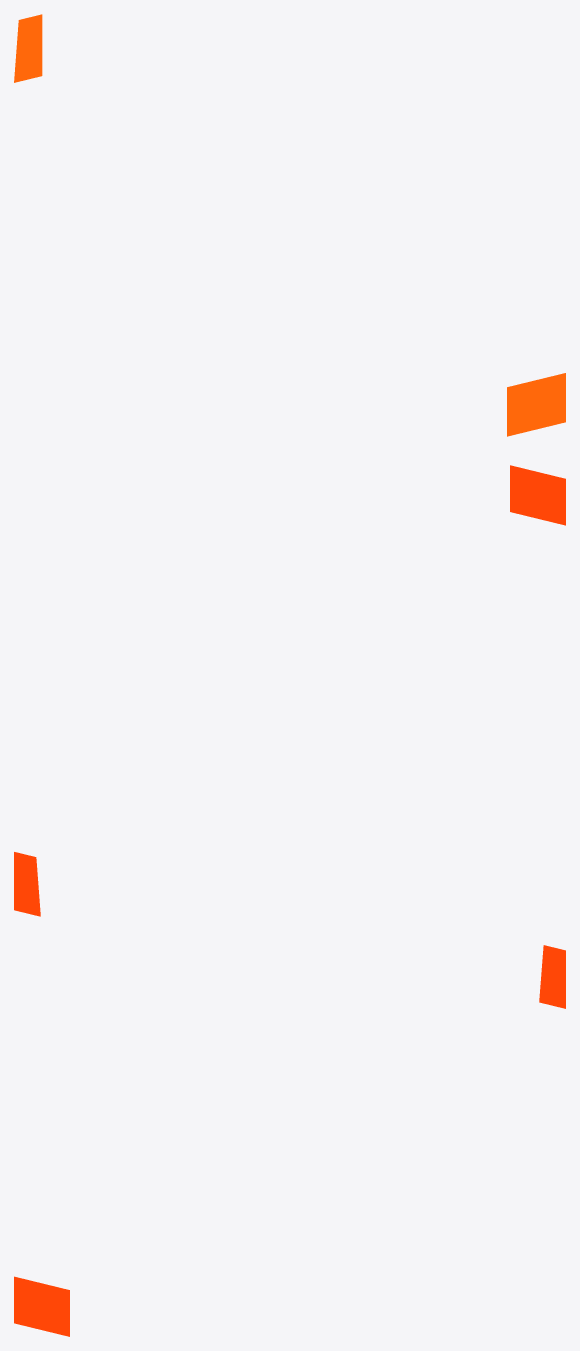
Rendered from Car_BlinkerR.glb.
The picture shows the model from 3 angles, top to bottom: view 1: azimuth 30°, elevation 25°; view 2: azimuth 150°, elevation 25°; view 3: azimuth 330°, elevation 25°; orthographic projection. The views are drawn at different scales.
Visible parts, largest first — view 1: 右ウィンカー; view 2: 右ウィンカー; view 3: 右ウィンカー.
Part boxes in pixels (box(x1,y1,x2,y2)): 右ウィンカー: box(14, 14, 565, 436); 右ウィンカー: box(14, 465, 565, 916); 右ウィンカー: box(14, 945, 565, 1336).
Size of the model in its own units: 0.25 by 0.35 by 3.84.
